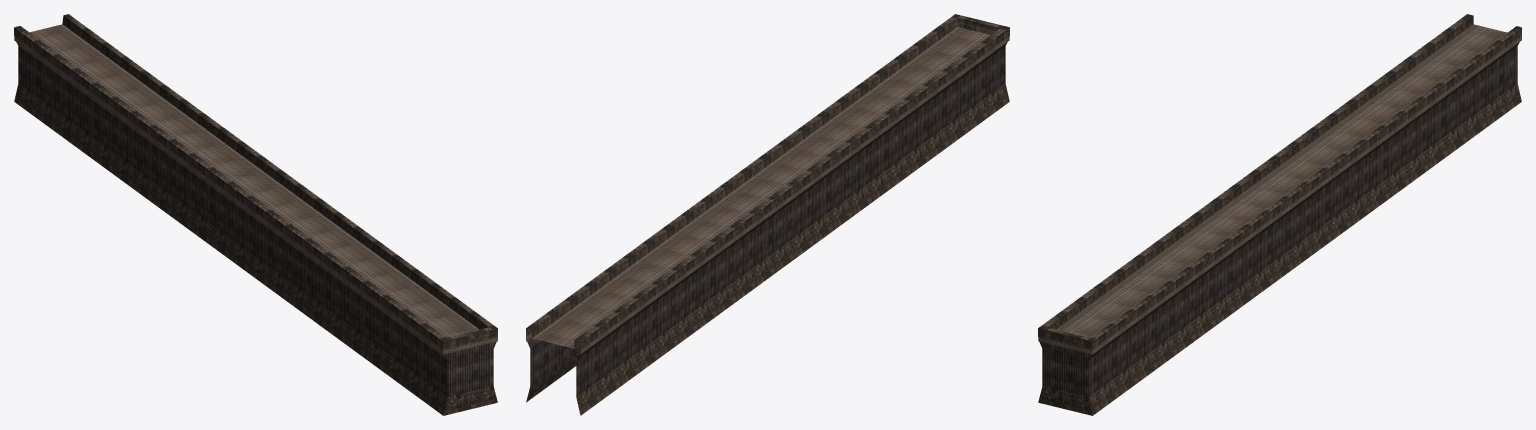
The model's file is components_city_wallsc2.glb.
3 renders of one model, left to right at view 1: azimuth 30°, elevation 25°; view 2: azimuth 150°, elevation 25°; view 3: azimuth 330°, elevation 25°, orthographic.
Parts seen in each view (by area): view 1: city_wallsc2; view 2: city_wallsc2; view 3: city_wallsc2.
Part boxes in pixels (x1,y1,x2,y2): city_wallsc2: (14, 14, 497, 415); city_wallsc2: (526, 14, 1009, 415); city_wallsc2: (1038, 14, 1521, 415).
Bounding box in the file's own units: 13.03 × 17 × 178.
3 materials, 3 textured.
